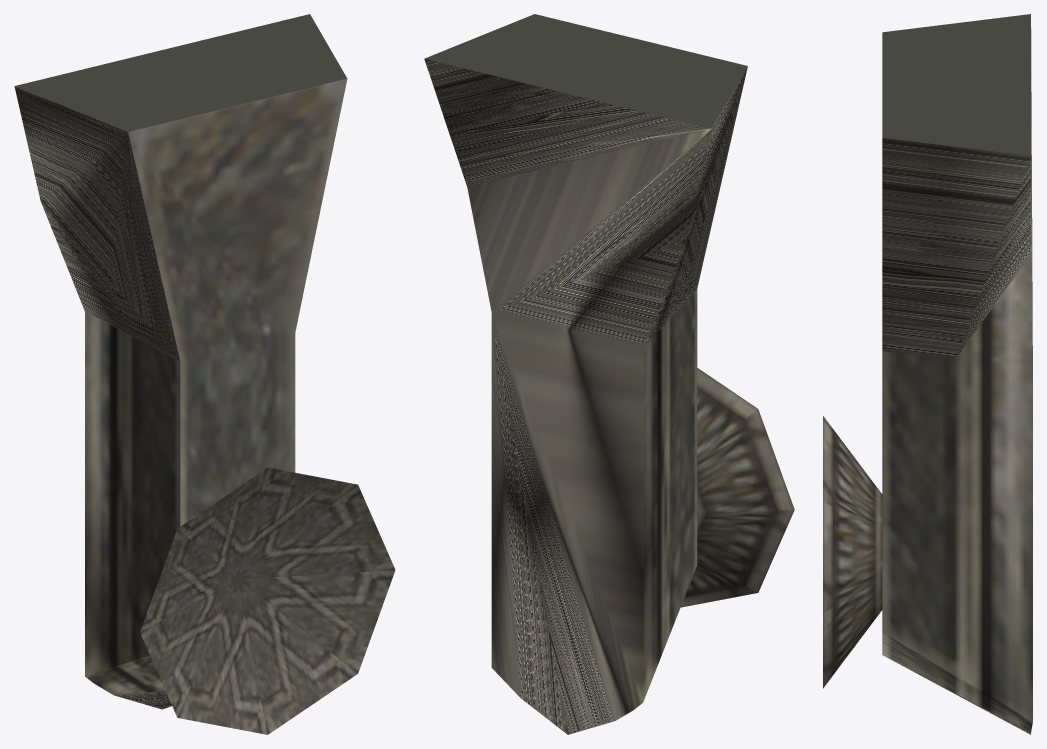
Rendered from Stand 1.fbx.
3 renders of one model, left to right at view 1: azimuth 30°, elevation 25°; view 2: azimuth 150°, elevation 25°; view 3: azimuth 270°, elevation 25°, orthographic. The views are drawn at different scales.
Parts seen in each view (by area): view 1: Dungeon06_c; view 2: Dungeon06_c; view 3: Dungeon06_c.
Boxes of the visible parts, x1,y1,x2,y2 form: Dungeon06_c: [14, 14, 395, 734]; Dungeon06_c: [424, 14, 794, 734]; Dungeon06_c: [823, 14, 1032, 734].
Size of the model in its own units: 48.85 by 104 by 30.48.
